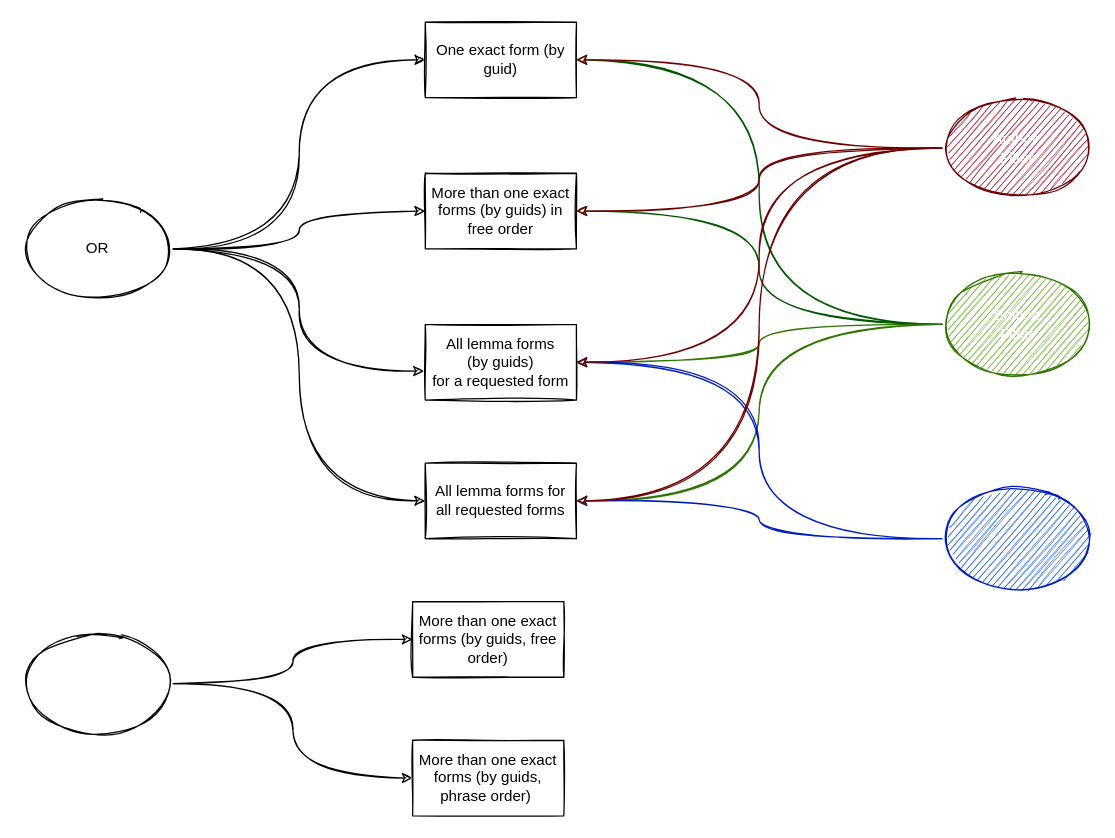
Some shapes in this 1115 by 838 pixel diagram are drawn without their labels. Here are the shapes that lost their labels. From the top down, the centre of each, then its label:
At point 1017,538: "Morph Category Filter".
At point 97,683: "AND".
